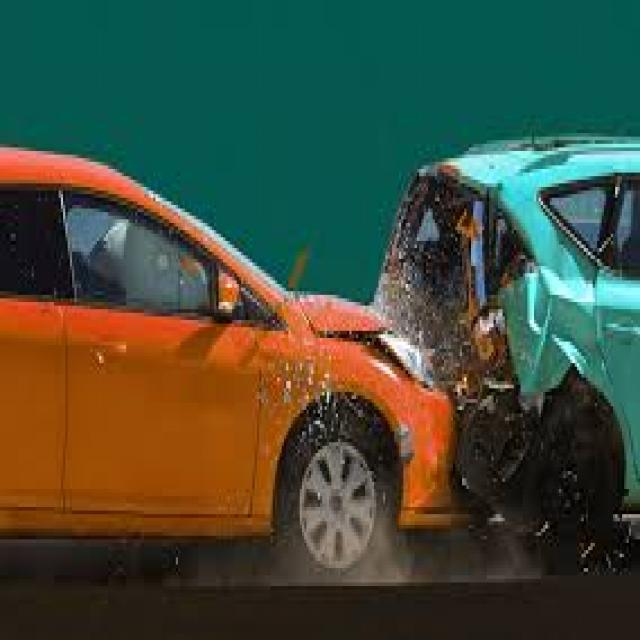accident: (168, 71, 596, 581)
